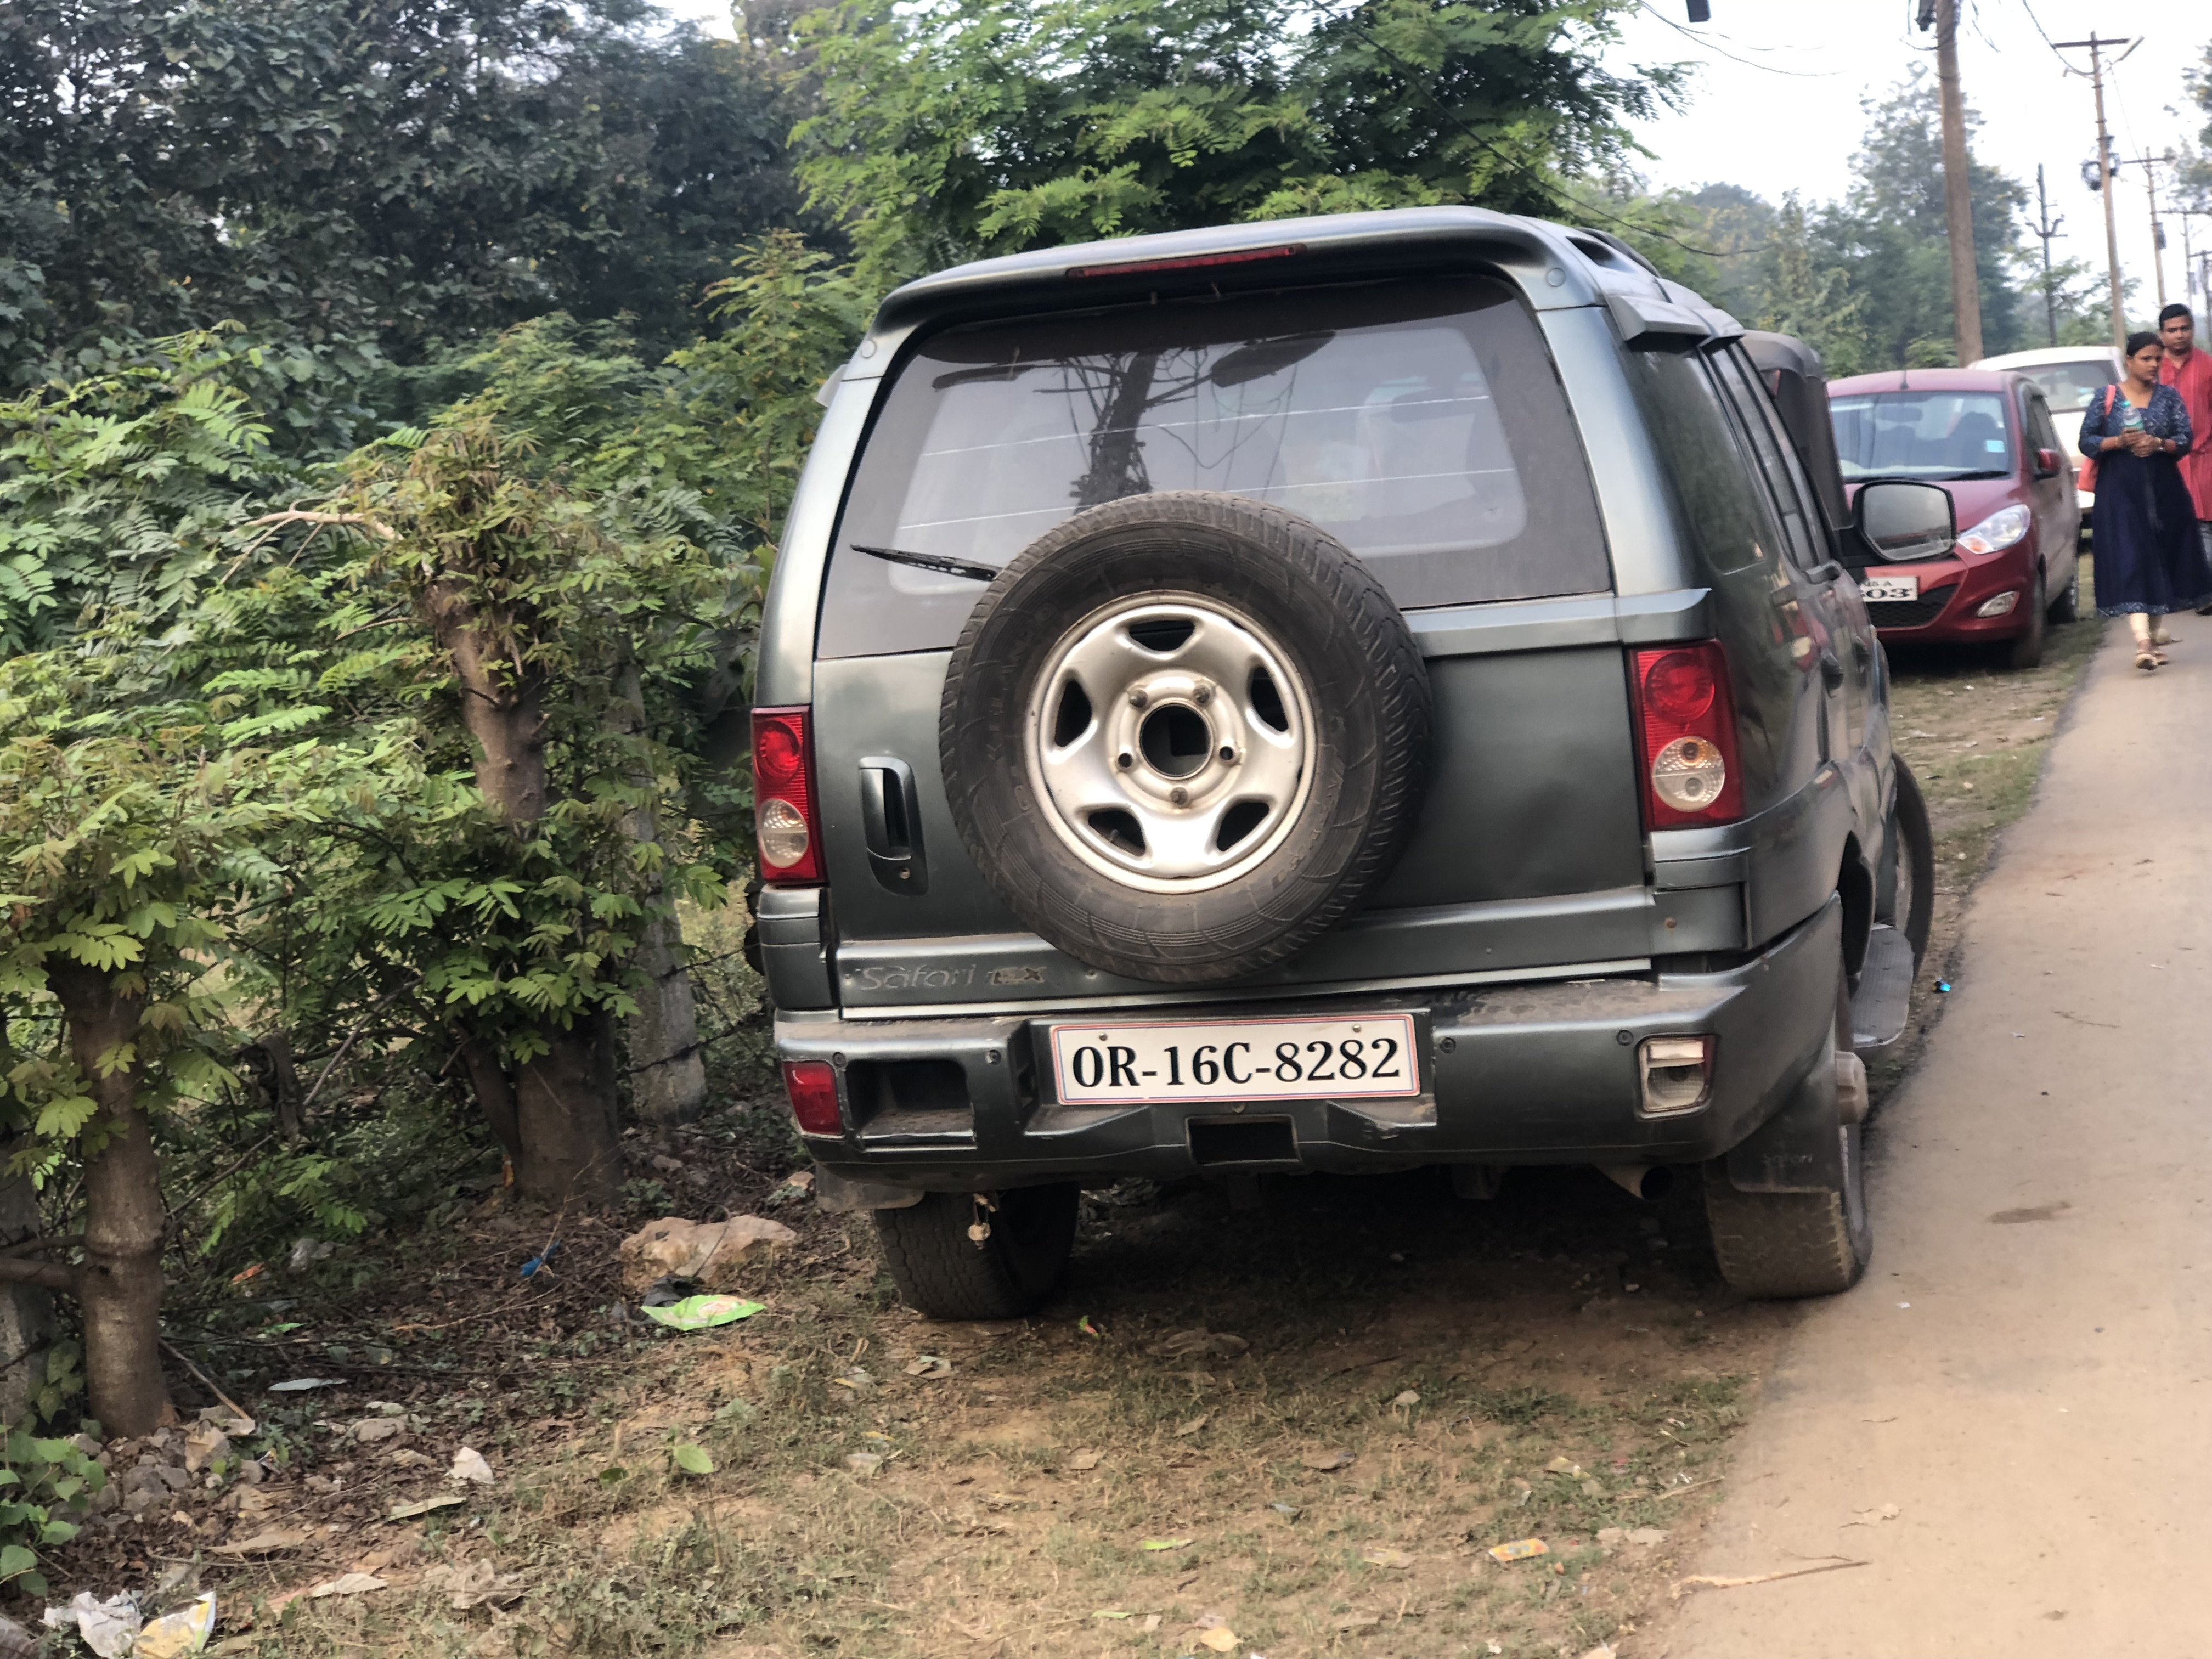licenseplate: (1040, 1015, 1436, 1116)
